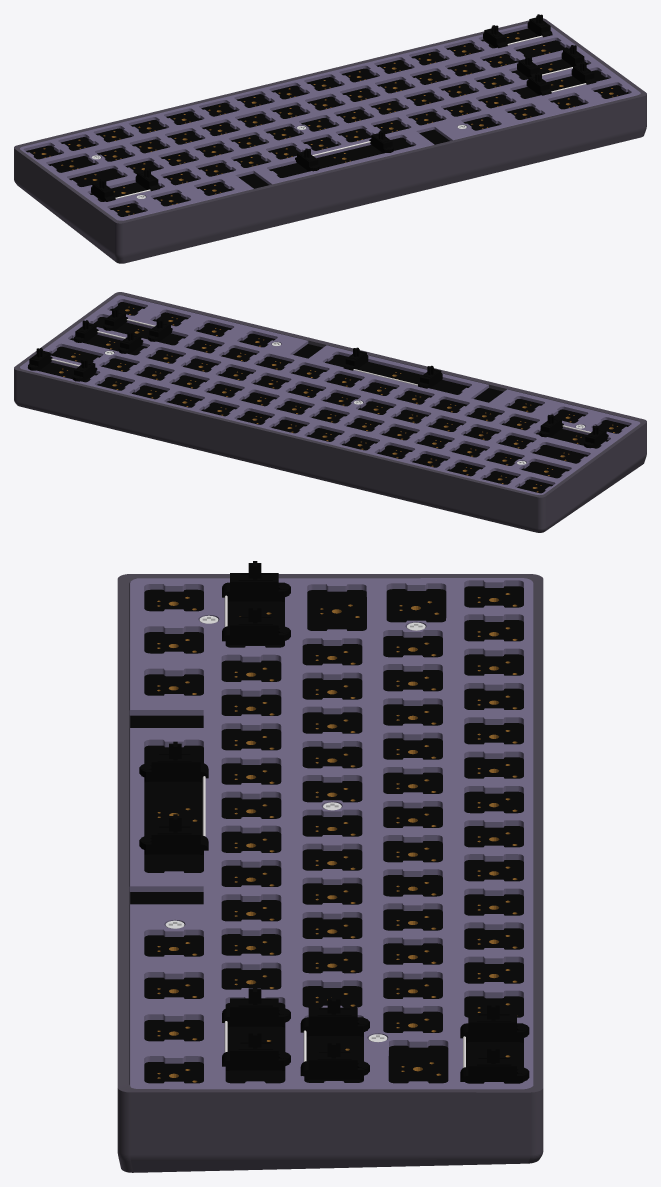
File: 60percent.glb
3 renders of one model, top to bottom at view 1: azimuth 30°, elevation 25°; view 2: azimuth 150°, elevation 25°; view 3: azimuth 270°, elevation 25°, orthographic. The views are drawn at different scales.
Visible parts, largest first — view 1: Plate, Box, PCB, Cube.002, Cube, Cube.003, Cube.001, Cube.004; view 2: Plate, Box, PCB, Cube.002, Cube.003, Cube.001, Cube.004, Cube; view 3: Plate, PCB, Box, Cube.002, Cube.004, Cube, Cube.001, Cube.003.
Boxes of the visible parts, <box> form: Plate: <box>20,23,640,220</box>; Box: <box>14,18,646,263</box>; PCB: <box>26,28,629,216</box>; Cube.002: <box>295,130,393,171</box>; Cube: <box>526,61,596,95</box>; Cube.003: <box>483,14,552,48</box>; Cube.001: <box>91,168,160,201</box>; Cube.004: <box>517,45,584,77</box>; Plate: <box>20,295,640,494</box>; Box: <box>14,292,646,532</box>; PCB: <box>39,302,629,493</box>; Cube.002: <box>343,347,442,388</box>; Cube.003: <box>28,348,97,381</box>; Cube.001: <box>539,414,608,448</box>; Cube.004: <box>74,320,143,353</box>; Cube: <box>103,308,172,341</box>; Plate: <box>129,578,533,1089</box>; PCB: <box>130,586,523,1083</box>; Box: <box>117,574,543,1172</box>; Cube.002: <box>139,741,208,854</box>; Cube.004: <box>300,996,369,1080</box>; Cube: <box>222,986,290,1070</box>; Cube.001: <box>222,561,290,645</box>; Cube.003: <box>460,1002,529,1083</box>.
Size of the model in its own units: 0.2881 by 0.0289 by 0.1.
